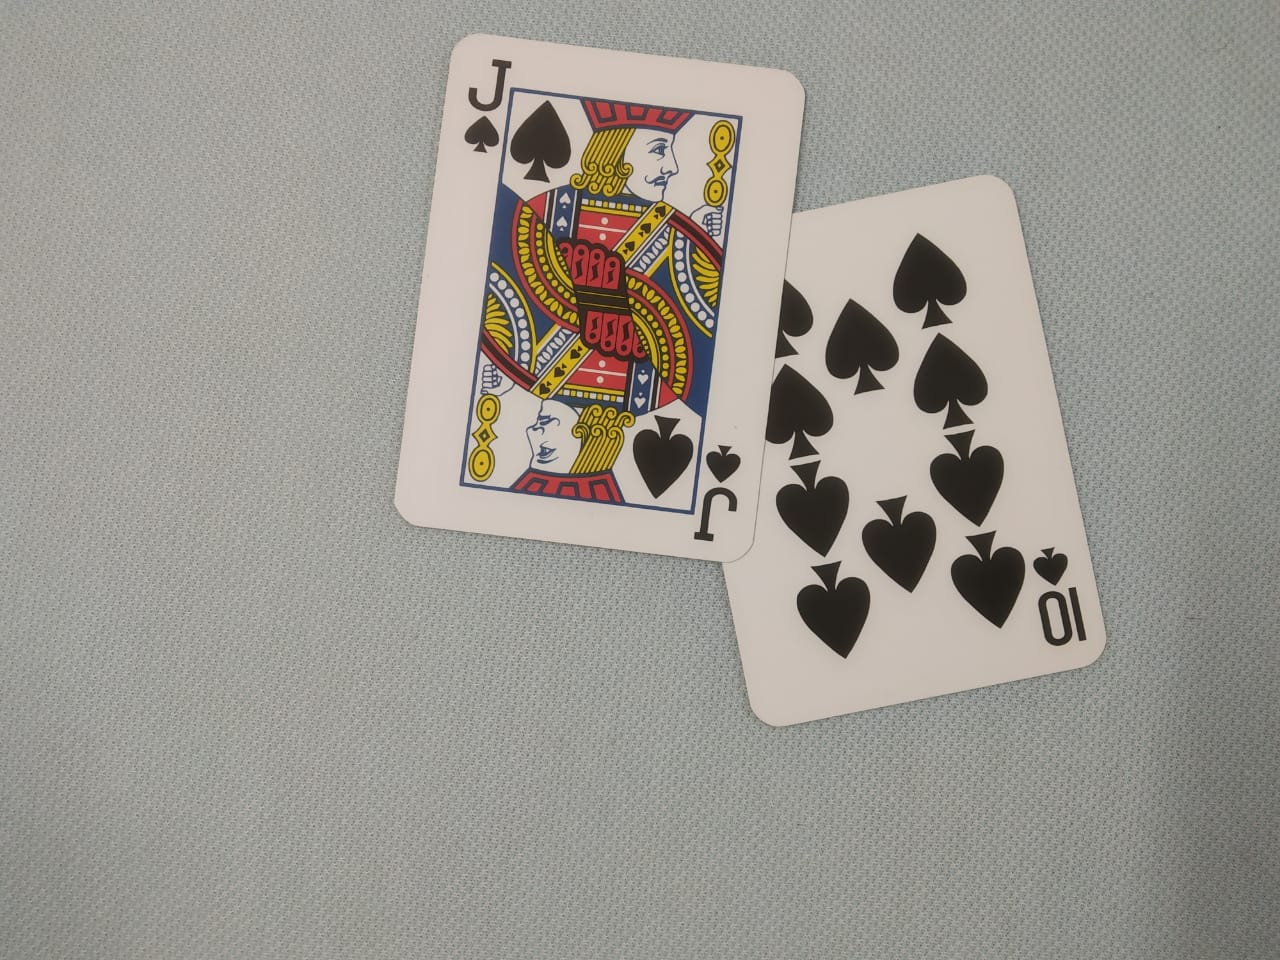jack: (385, 21, 771, 583)
ten: (658, 155, 1180, 783)
